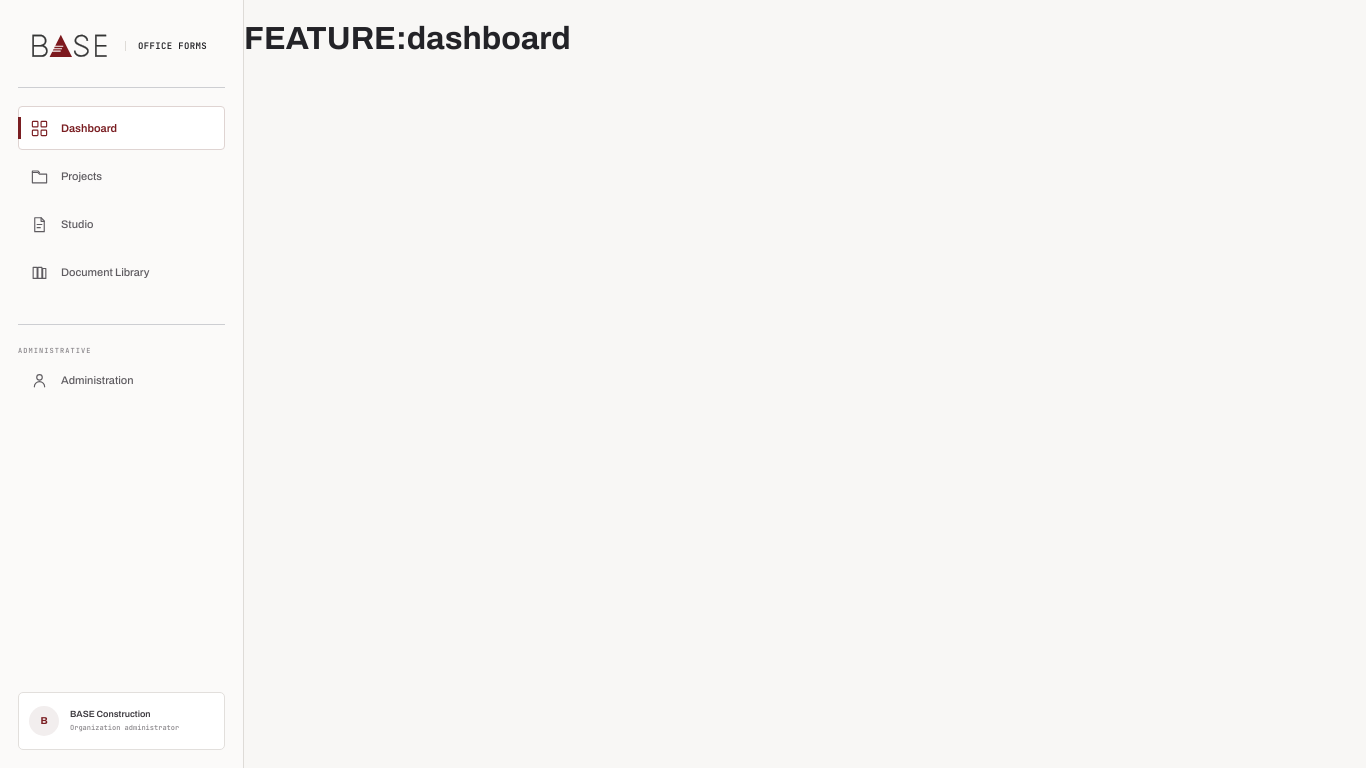
Test: React application shell › route focus and announcements › moves focus to the heading and announces the route after navigation
Check: the heading "FEATURE:dashboard" is shown, box 244,21 -> 571,56
Click the link "Projects". click: (66, 176)
box: 30,166 -> 102,186
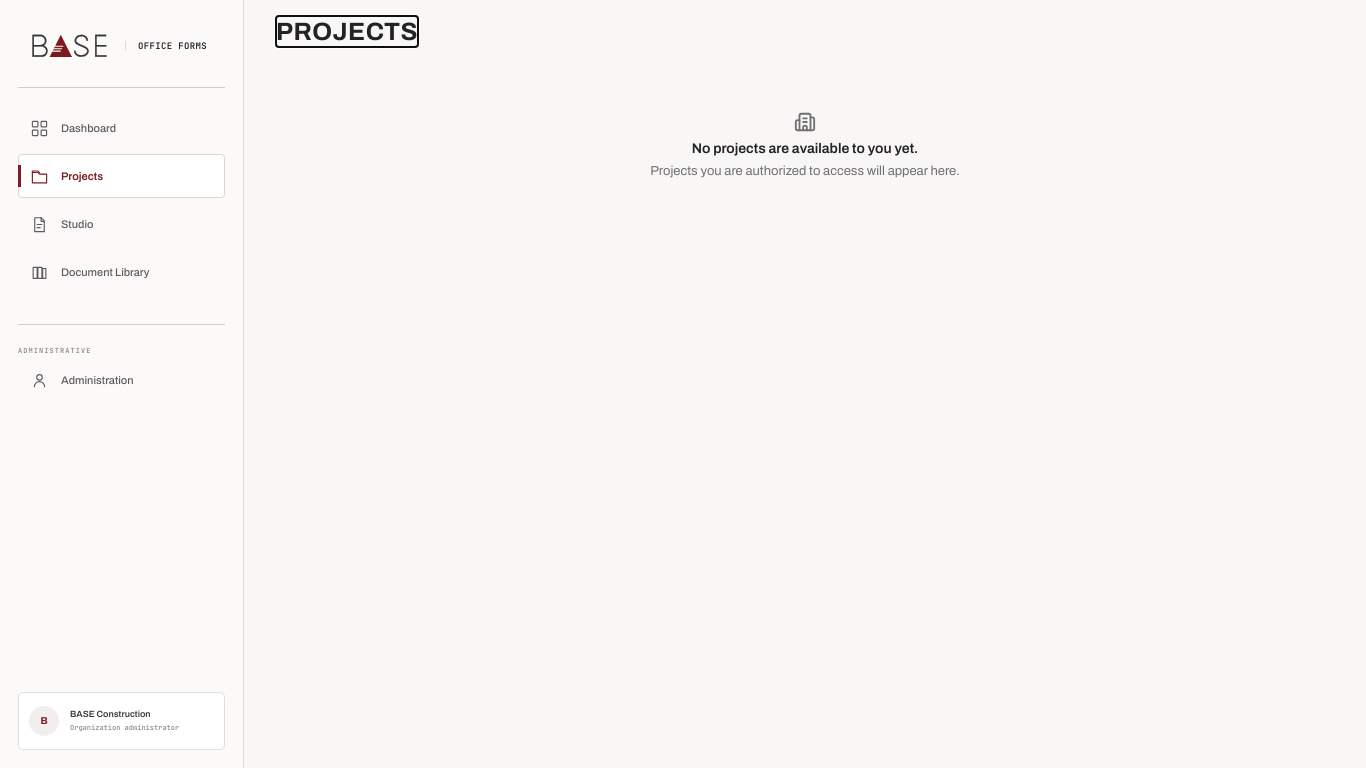
Check: the heading "Projects" is shown, box 276,16 -> 418,47
